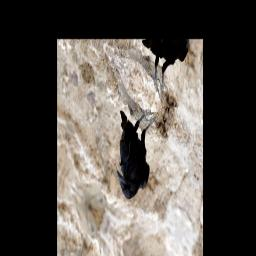Crow: (102, 87, 165, 212)
